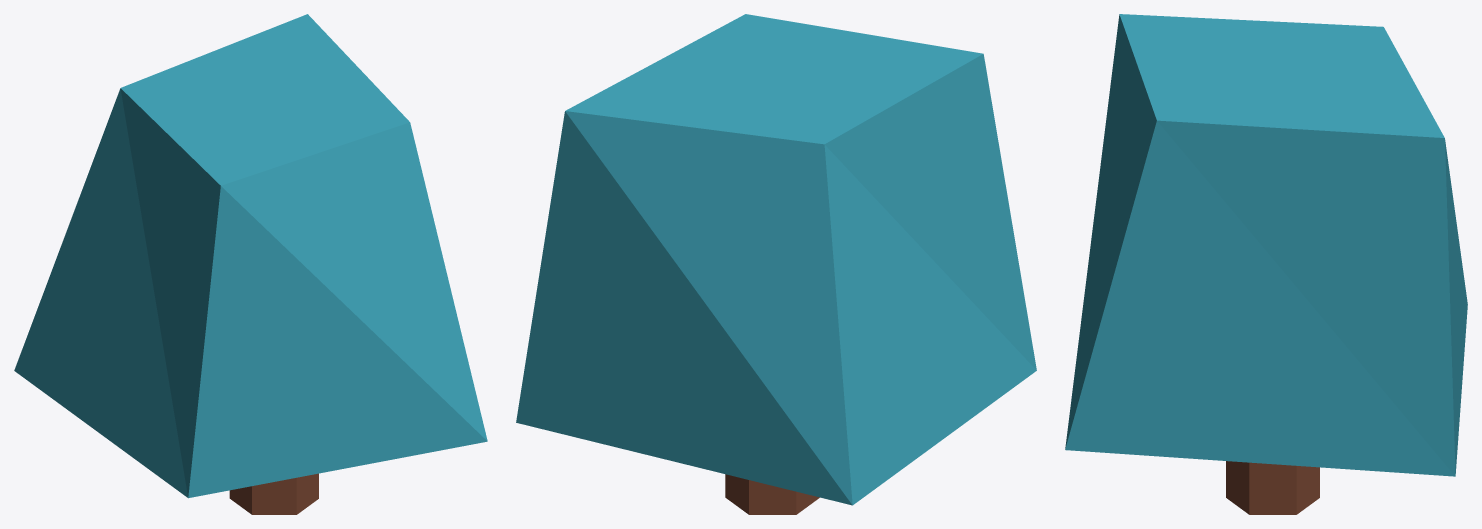
File: Bush_11_summer_blue_mat.fbx
3 views of the same model, side by side, from view 1: azimuth 30°, elevation 25°; view 2: azimuth 150°, elevation 25°; view 3: azimuth 270°, elevation 25° (orthographic). The views are drawn at different scales.
Visible parts, largest first — view 1: Bush_11_summer_blue_mat; view 2: Bush_11_summer_blue_mat; view 3: Bush_11_summer_blue_mat.
Boxes of the visible parts, bbox=[...] form: Bush_11_summer_blue_mat: bbox=[14, 14, 487, 514]; Bush_11_summer_blue_mat: bbox=[516, 14, 1036, 514]; Bush_11_summer_blue_mat: bbox=[1065, 14, 1467, 514].
Size of the model in its own units: 50.88 by 59.59 by 51.95.
